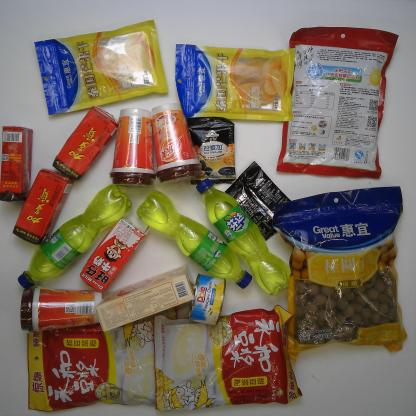Canned Food: (188, 274, 227, 326)
Dessert: (95, 266, 194, 332)
Dried Food: (271, 184, 408, 364)
Dried Fruit: (34, 18, 171, 116), (173, 43, 296, 124)
Drink: (17, 182, 133, 291), (136, 188, 254, 290), (195, 178, 292, 295), (53, 104, 118, 182), (12, 168, 74, 246), (1, 125, 34, 204)
Instant Drink: (275, 25, 399, 180), (150, 305, 304, 412), (24, 308, 177, 411), (223, 161, 298, 243), (150, 102, 202, 184), (19, 285, 103, 333), (184, 116, 237, 188), (110, 108, 156, 188)
Milk: (79, 217, 150, 294)
